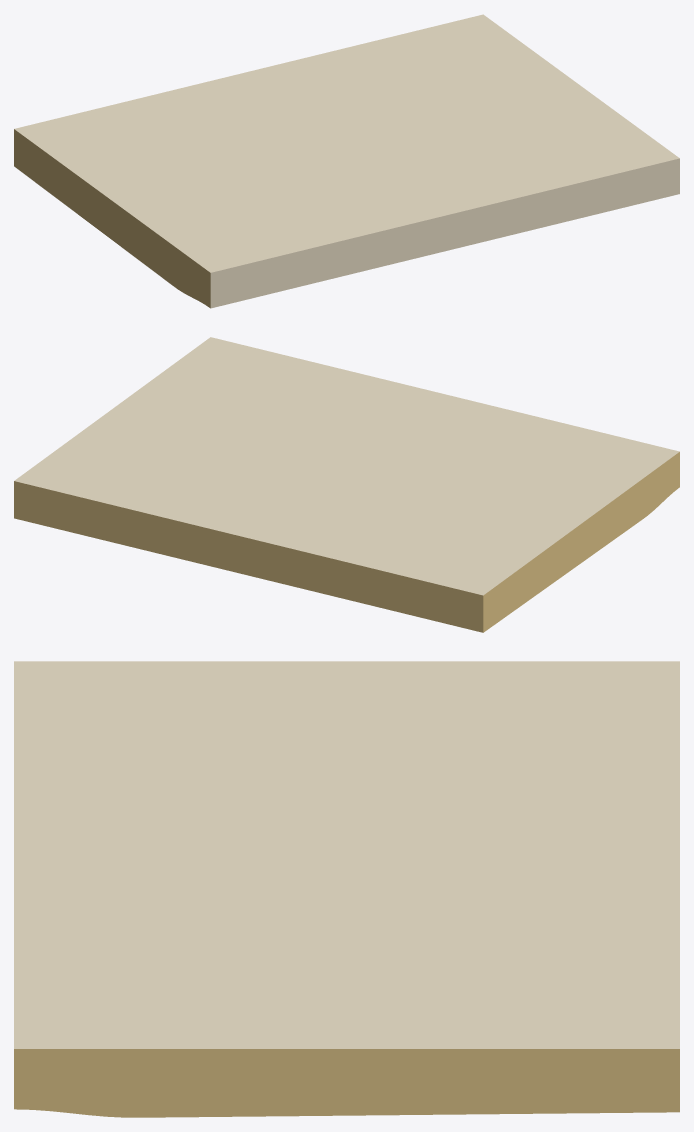
Rendered from SM_Grimoire_PagesLeft.fbx.
The picture shows the model from 3 angles, top to bottom: view 1: azimuth 30°, elevation 25°; view 2: azimuth 150°, elevation 25°; view 3: azimuth 270°, elevation 25°; orthographic projection. The views are drawn at different scales.
Visible parts, largest first — view 1: SM_Grimoire_PagesLeft; view 2: SM_Grimoire_PagesLeft; view 3: SM_Grimoire_PagesLeft.
Boxes of the visible parts, bbox=[...] form: SM_Grimoire_PagesLeft: bbox=[14, 14, 679, 308]; SM_Grimoire_PagesLeft: bbox=[14, 337, 679, 632]; SM_Grimoire_PagesLeft: bbox=[14, 661, 679, 1117].
Bounding box in the file's own units: 24.8 × 2.05 × 18.
